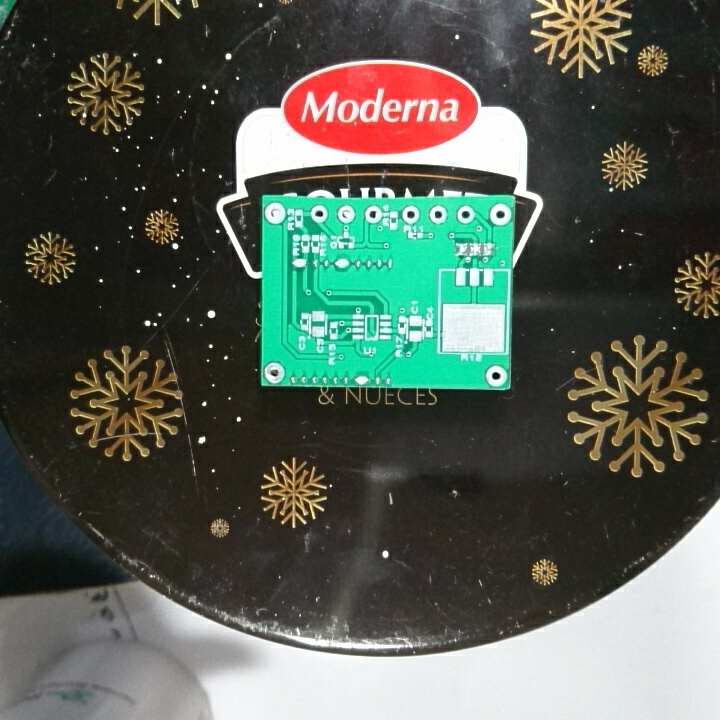F: (262, 359, 288, 386), (482, 362, 508, 388), (263, 199, 287, 227), (487, 202, 513, 227), (454, 203, 477, 226), (399, 203, 421, 227), (427, 204, 449, 226), (336, 203, 357, 226), (362, 203, 383, 225), (308, 203, 328, 224)
P: (289, 254, 310, 272), (331, 255, 351, 273), (351, 372, 372, 386)
